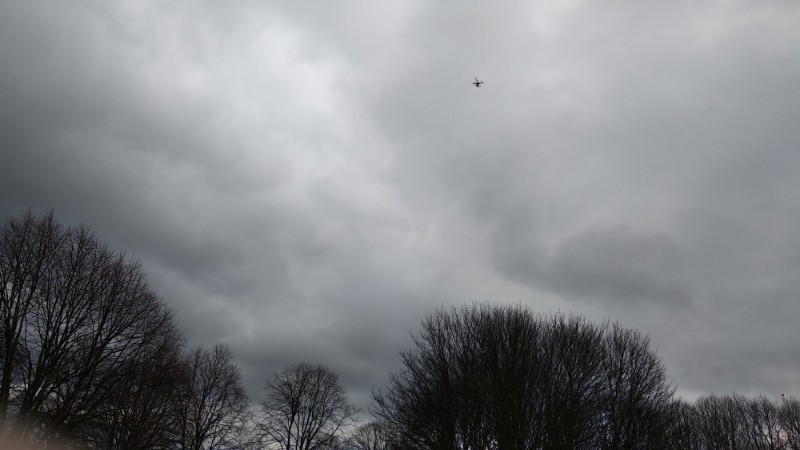drone: (474, 80, 486, 89)
